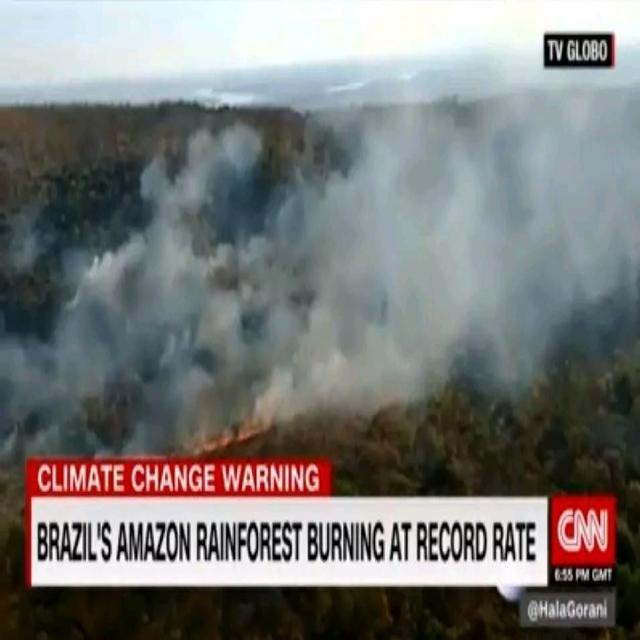Smoke: (16, 69, 640, 468), (62, 168, 342, 384)
